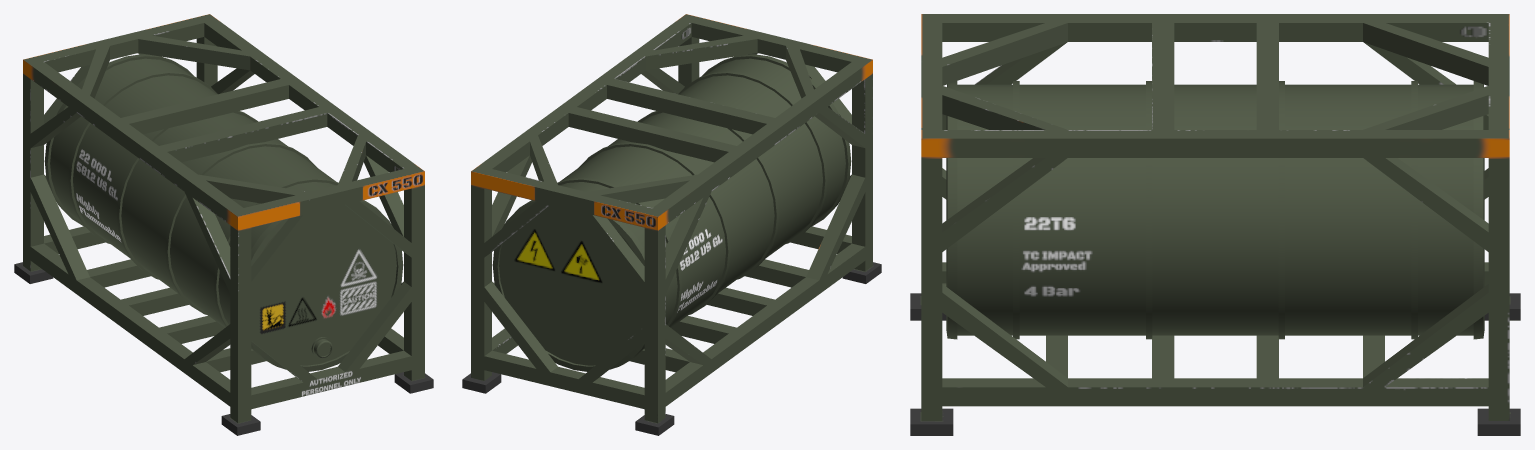
File: fuel_container.glb
3 views of the same model, side by side, from view 1: azimuth 30°, elevation 25°; view 2: azimuth 150°, elevation 25°; view 3: azimuth 270°, elevation 25° (orthographic). The views are drawn at different scales.
Visible parts, largest first — view 1: Fuel Tank; view 2: Fuel Tank; view 3: Fuel Tank.
Boxes of the visible parts, <box> form: Fuel Tank: <box>14,14,433,435</box>; Fuel Tank: <box>462,14,881,435</box>; Fuel Tank: <box>910,14,1520,435</box>.
Size of the model in its own units: 420 by 440 by 827.
1 material, 1 textured.
